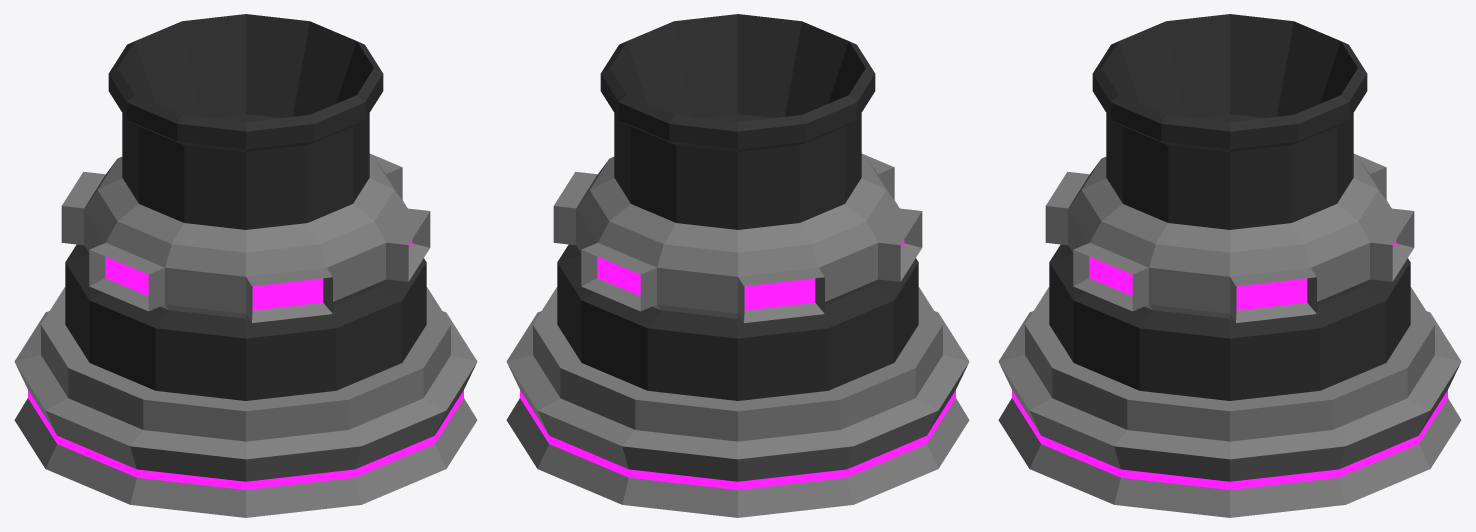
Rendered from boom.fbx.
3 views of the same model, side by side, from view 1: azimuth 30°, elevation 25°; view 2: azimuth 150°, elevation 25°; view 3: azimuth 270°, elevation 25° (orthographic).
Visible parts, largest first — view 1: boomBody, boomBase, boomBarrel; view 2: boomBody, boomBase, boomBarrel; view 3: boomBody, boomBase, boomBarrel.
Boxes of the visible parts, left/top/right/bottom form: boomBody: left=61, top=153, right=430, bottom=400; boomBase: left=14, top=287, right=477, bottom=517; boomBarrel: left=108, top=14, right=383, bottom=229; boomBody: left=553, top=153, right=922, bottom=400; boomBase: left=506, top=287, right=969, bottom=517; boomBarrel: left=600, top=14, right=875, bottom=229; boomBody: left=1045, top=153, right=1414, bottom=400; boomBase: left=998, top=287, right=1461, bottom=517; boomBarrel: left=1092, top=14, right=1367, bottom=229.
Bounding box in the file's own units: 200 × 168 × 200.
